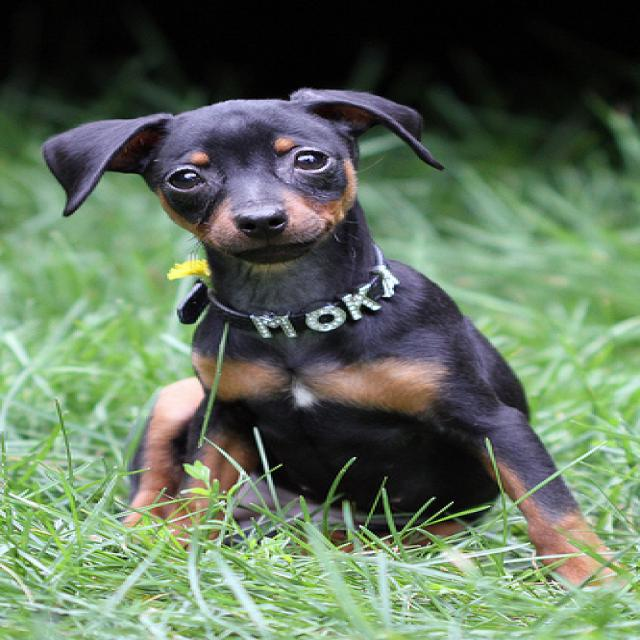dog-miniature_pinscher: (29, 79, 636, 600)
